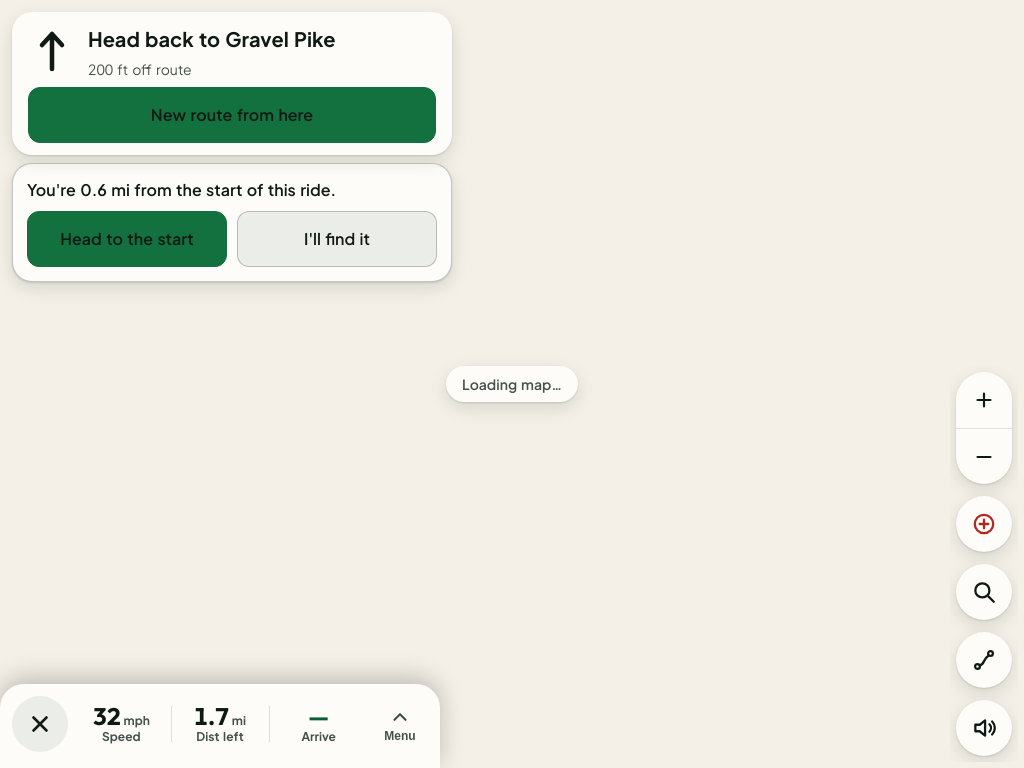
off the route: the recovery is on the card (DV-10) › keeps the card in place while a reroute is in flight, and never sends two
The image size is (1024, 768).
Click the button with test id "ride-reroute-now" at point(232, 114), box [28,86,436,142]
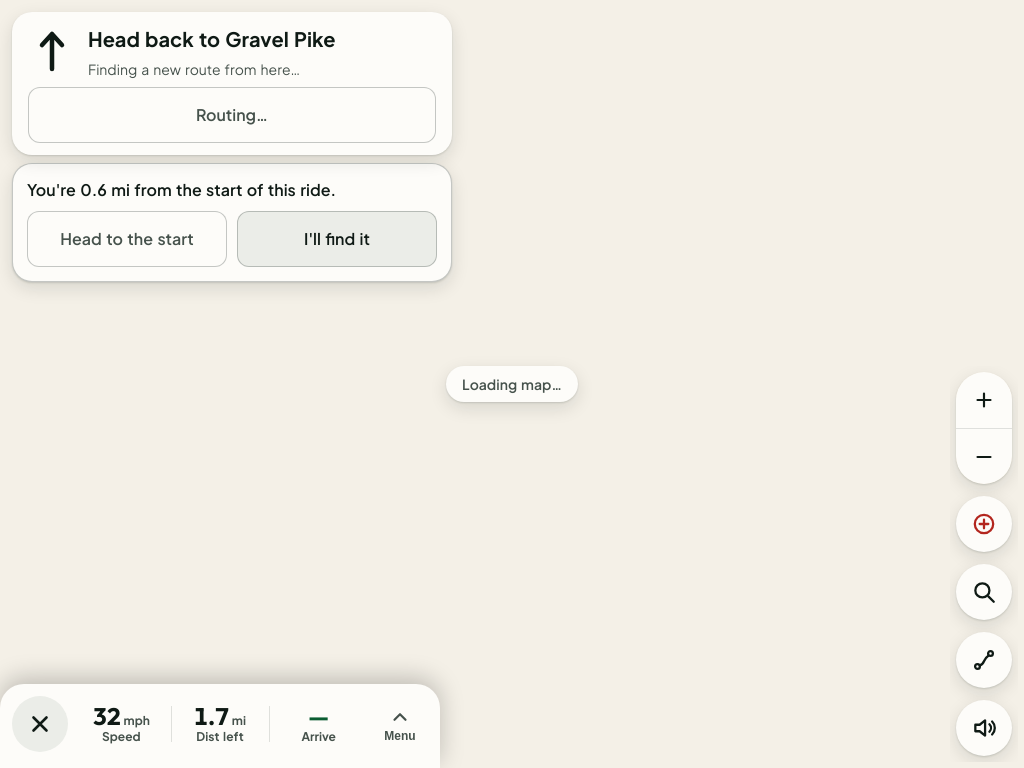
Now the button with test id "ride-reroute-now" reads "Routing…"
Now the button with test id "ride-reroute-now" is disabled
Click the button with test id "ride-reroute-now" at point(232, 114), box [28,86,436,142]
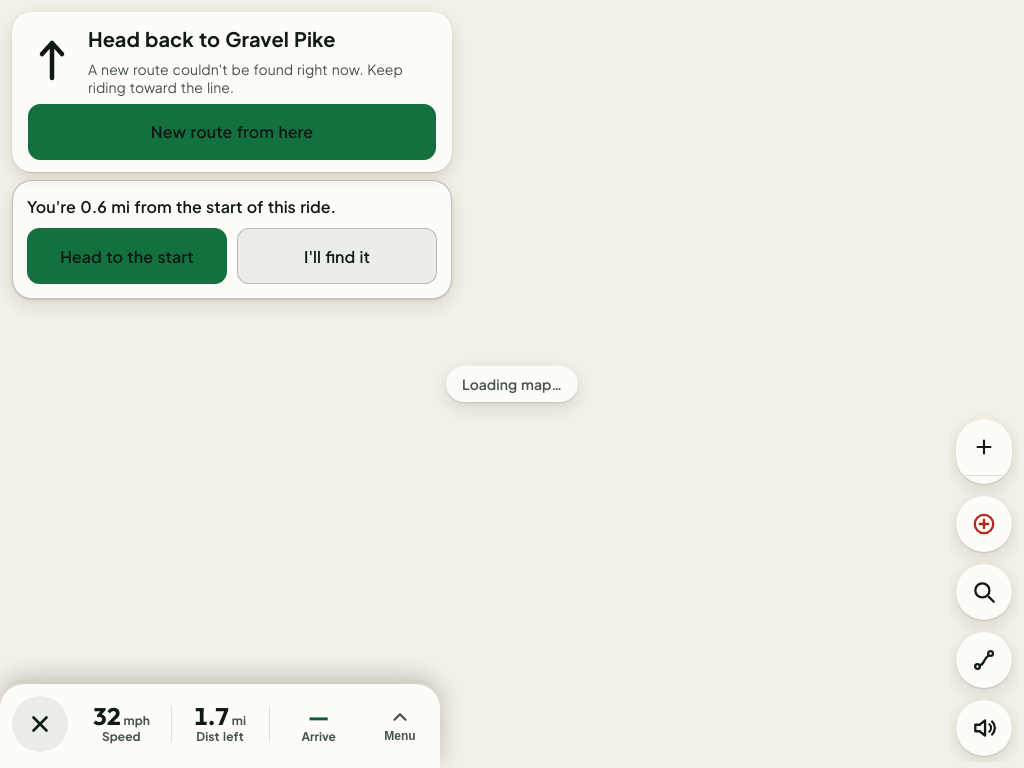
Now the button with test id "ride-reroute-now" reads "New route from here", box [28,104,436,160]
